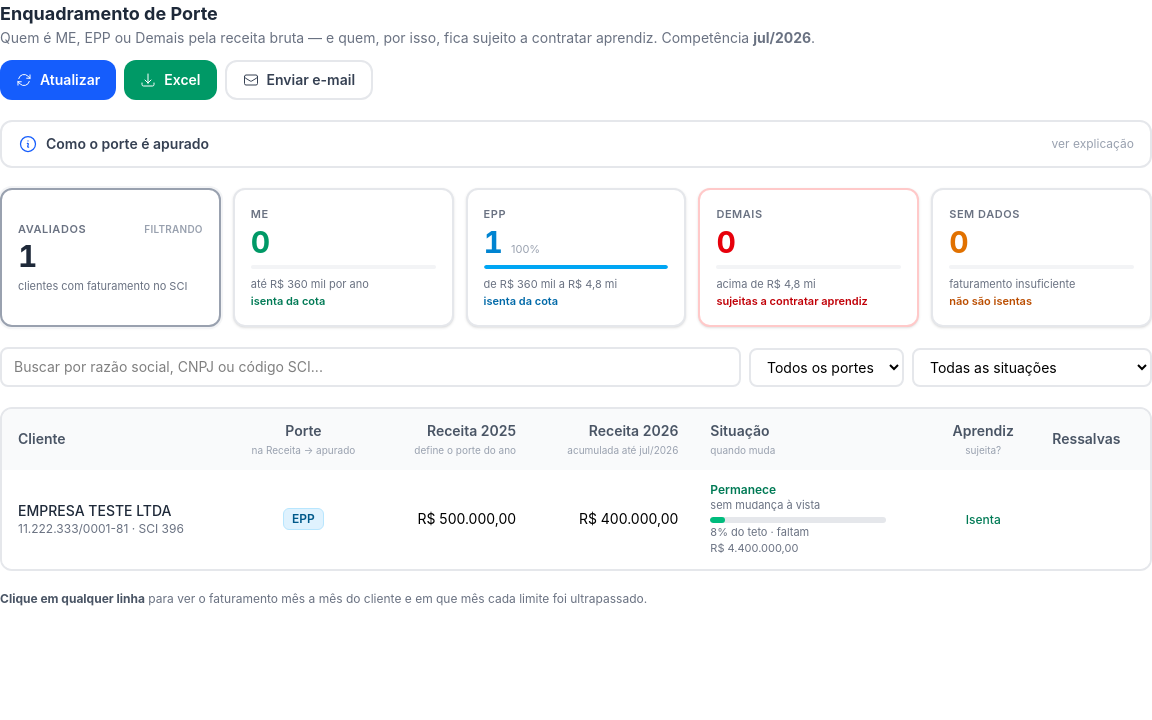
Test case: CotaAprendizagemTab › atualizar pelo cadastro não consulta o SCI e recarrega a tela
This screenshot has width=1152, height=720.
Check: the text "EMPRESA TESTE LTDA" is shown, box [18,502,172,519]
Click the button "Atualizar".
click(58, 80)  # box [0,60,116,100]
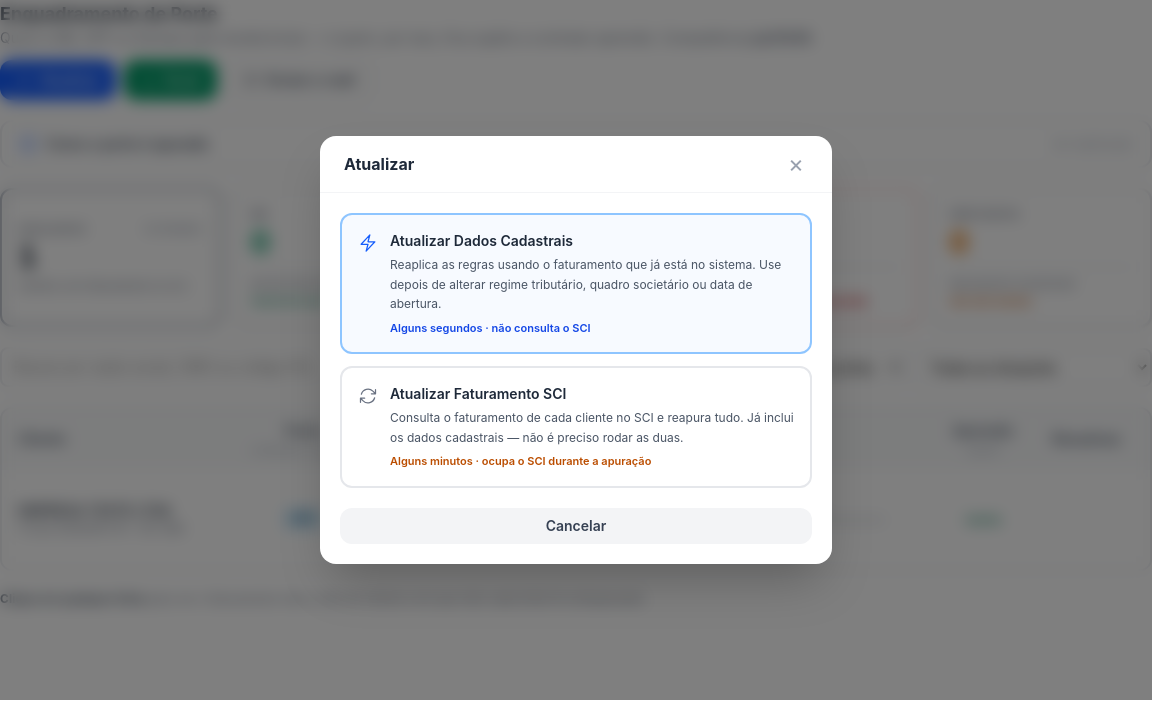
Click the button "Atualizar Dados Cadastrais".
click(576, 284)  # box [340,213,812,354]
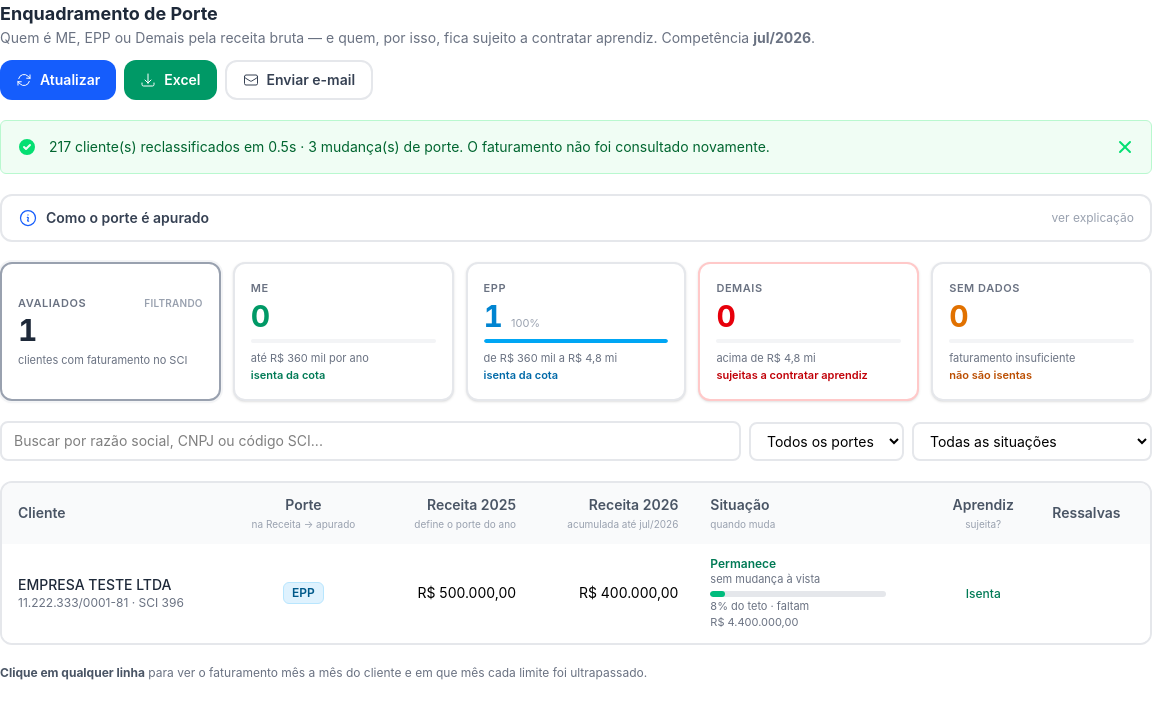
Check: the text "não foi consultado novamente" is shown, box [49,138,770,155]
